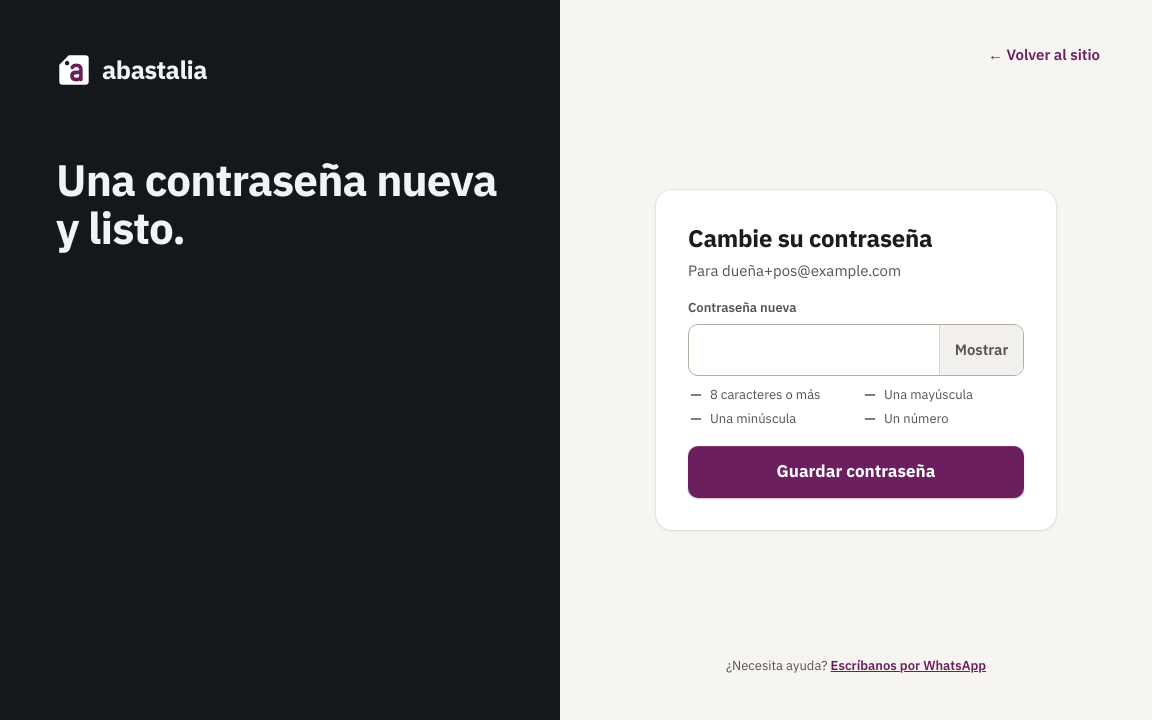
TK-230: the reset link (code after #) sets a new password with Identity's resetPassword
The image size is (1152, 720).
Expected: the text "Para dueña+pos@example.com" is shown, [688,261,901,280]
Type "Nueva2026" into the password field labelled "Contraseña nueva". click: (814,350)
box: [689,325,939,375]
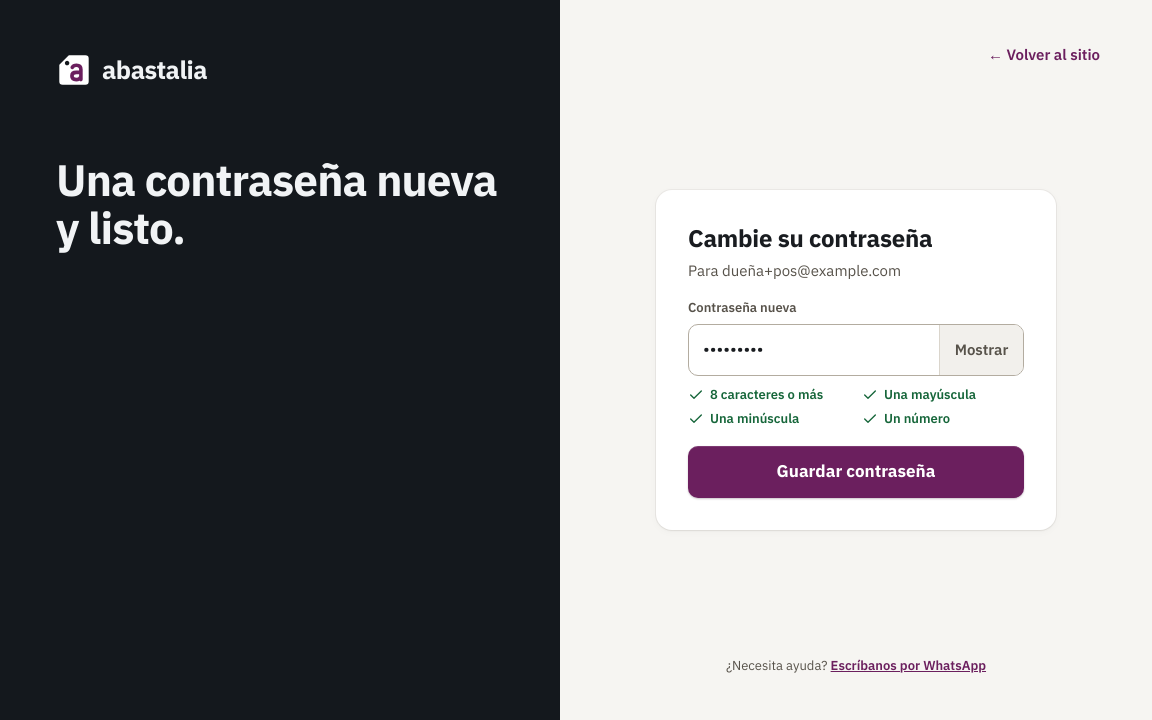
Click the button "Guardar contraseña". click: (856,472)
box: [688,446,1024,498]
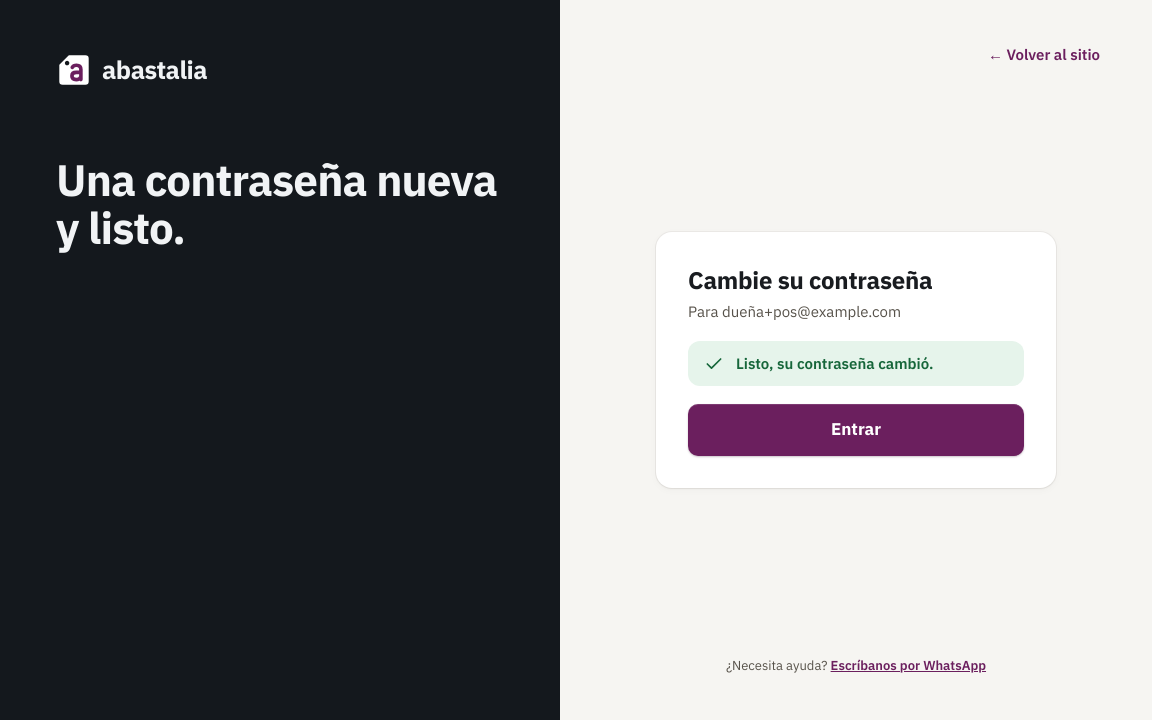
Result: the text "Listo, su contraseña cambió." is shown at [736,354,933,373]
